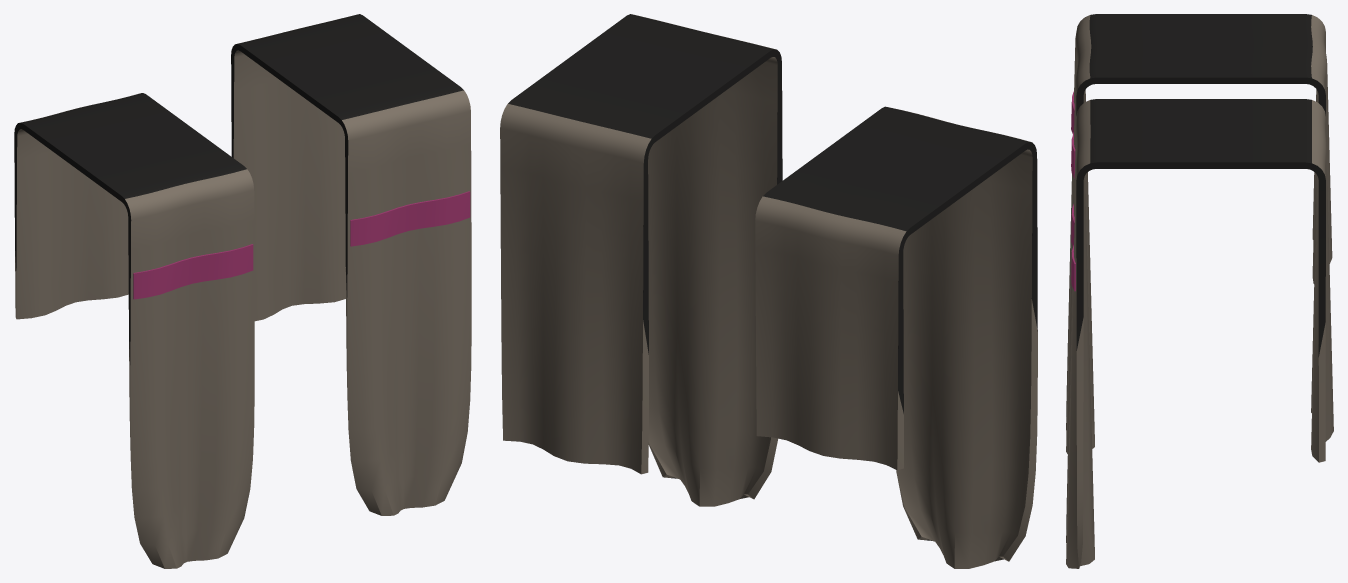
The model's file is socks-draped-vibe-fb6af700cd7f.glb.
The picture shows the model from 3 angles, left to right: view 1: azimuth 30°, elevation 25°; view 2: azimuth 150°, elevation 25°; view 3: azimuth 270°, elevation 25°; orthographic projection. The views are drawn at different scales.
Parts seen in each view (by area): view 1: cover-cloth, rubber, accent-magenta; view 2: cover-cloth, rubber; view 3: rubber, cover-cloth, accent-magenta.
Boxes of the visible parts, x1=… form: cover-cloth: x1=15, y1=14, x2=471, y2=568; rubber: x1=14, y1=14, x2=463, y2=364; accent-magenta: x1=133, y1=191, x2=470, y2=299; cover-cloth: x1=500, y1=14, x2=1037, y2=568; rubber: x1=508, y1=14, x2=1037, y2=559; rubber: x1=1076, y1=14, x2=1325, y2=356; cover-cloth: x1=1066, y1=15, x2=1333, y2=568; accent-magenta: x1=1071, y1=91, x2=1075, y2=291.
Size of the model in its own units: 0.208 by 0.235 by 0.133.
